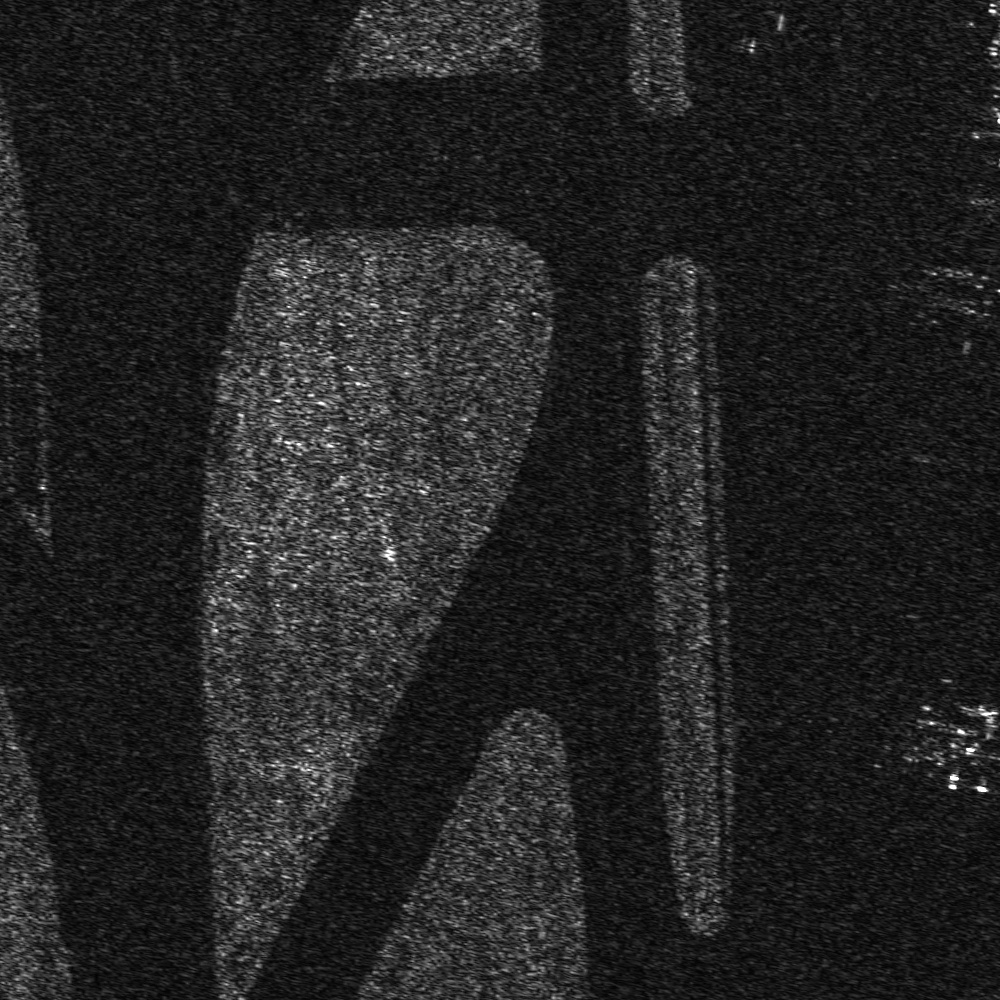A320/321: (932, 702, 999, 794)
